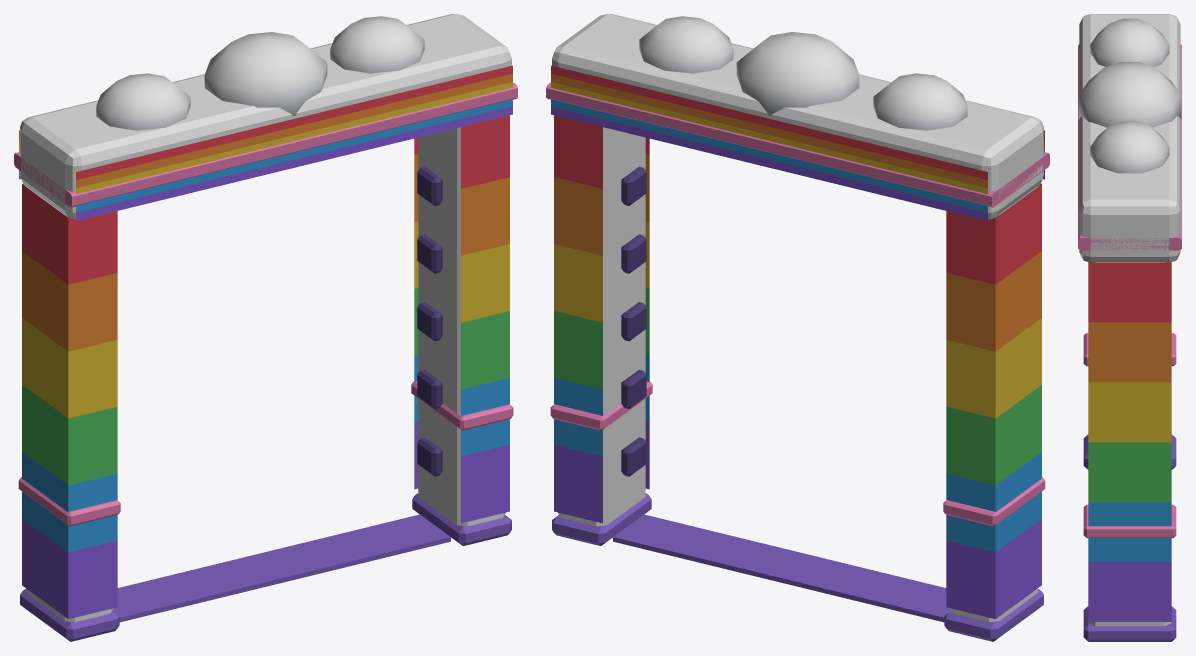
File: carnival-gateframe.glb
The picture shows the model from 3 angles, left to right: view 1: azimuth 30°, elevation 25°; view 2: azimuth 150°, elevation 25°; view 3: azimuth 270°, elevation 25°; orthographic projection. The views are drawn at different scales.
Parts seen in each view (by area): view 1: carnival-gateframe; view 2: carnival-gateframe; view 3: carnival-gateframe.
Boxes of the visible parts, left/top/right/bottom form: carnival-gateframe: left=14, top=14, right=517, bottom=641; carnival-gateframe: left=546, top=14, right=1049, bottom=641; carnival-gateframe: left=1078, top=14, right=1181, bottom=641.
Size of the model in its own units: 2 by 2.28 by 0.45.
